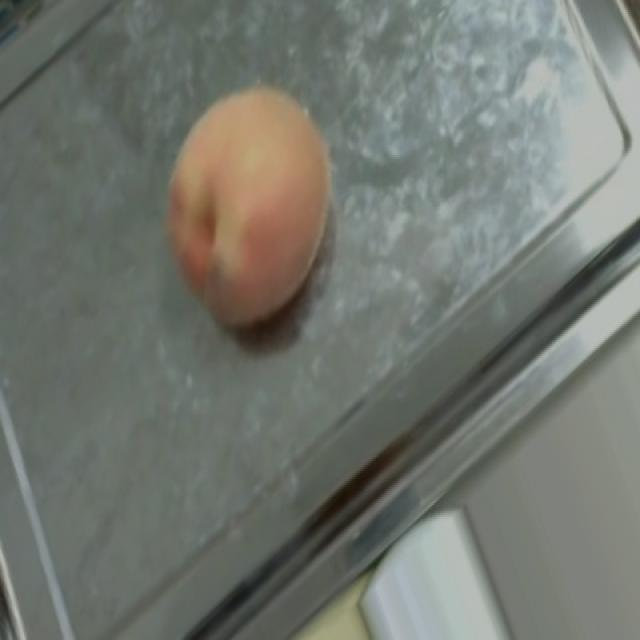Fruit: (120, 54, 372, 362), (229, 592, 456, 640)
